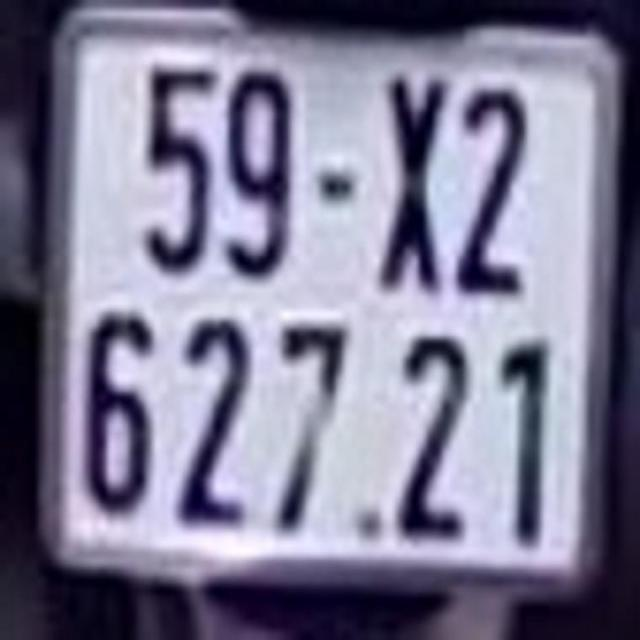1: (485, 328, 557, 550)
2: (389, 326, 471, 540), (174, 312, 254, 528), (456, 76, 528, 298)
5: (144, 52, 219, 282)
6: (80, 304, 155, 520)
7: (268, 313, 352, 538)
9: (224, 59, 296, 284)
X: (373, 61, 448, 296)
